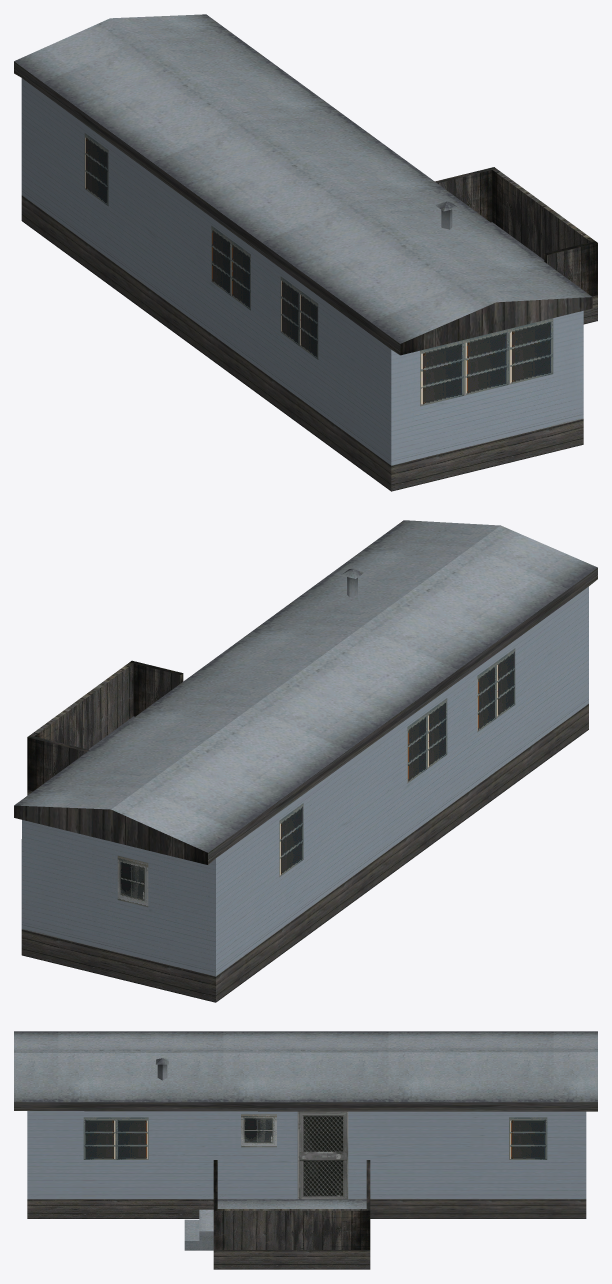
The model's file is moresfnshit20.obj.
3 views of the same model, one above another, from view 1: azimuth 30°, elevation 25°; view 2: azimuth 150°, elevation 25°; view 3: azimuth 270°, elevation 25° (orthographic). The views are drawn at different scales.
Visible parts, largest first — view 1: moresfnshit20; view 2: moresfnshit20; view 3: moresfnshit20.
Boxes of the visible parts, bbox=[...] form: moresfnshit20: bbox=[14, 14, 597, 491]; moresfnshit20: bbox=[14, 520, 597, 1002]; moresfnshit20: bbox=[14, 1031, 597, 1269].
Bounding box in the file's own units: 6 × 3.29 × 12.17.
6 materials, 6 textured.
